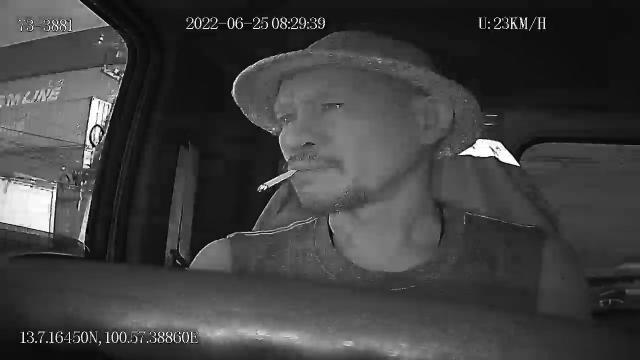SafeDriving: (314, 94, 352, 116)
Smoking: (258, 166, 296, 192)
